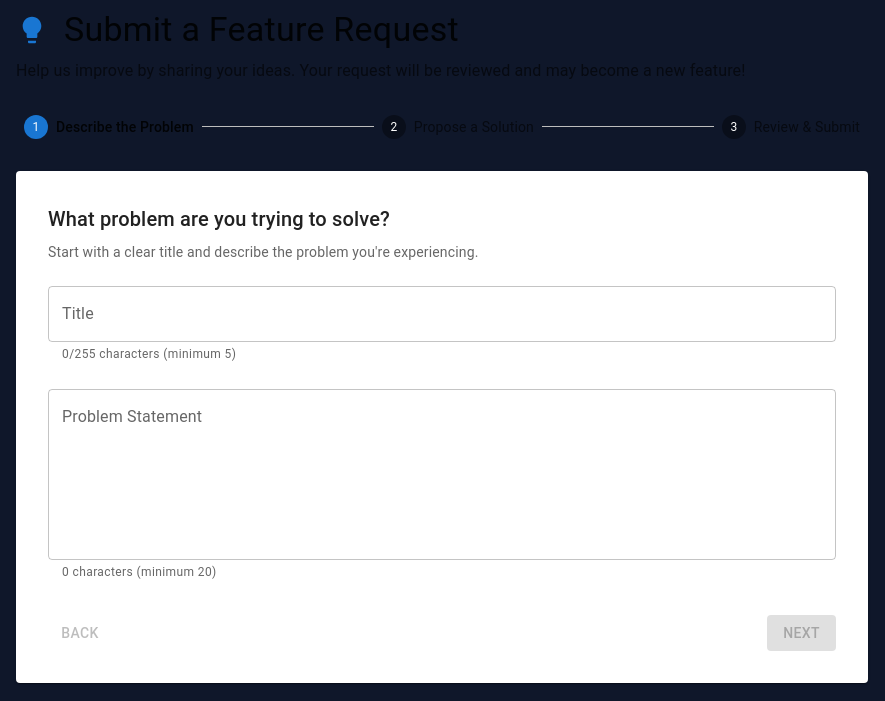
SubmitFeatureRequest › Step 1 - Problem Description › enables Next button when form is valid
The image size is (885, 701).
In the field labelled "Title": (442, 314) [48,286,836,342], type "Add dark mode support"
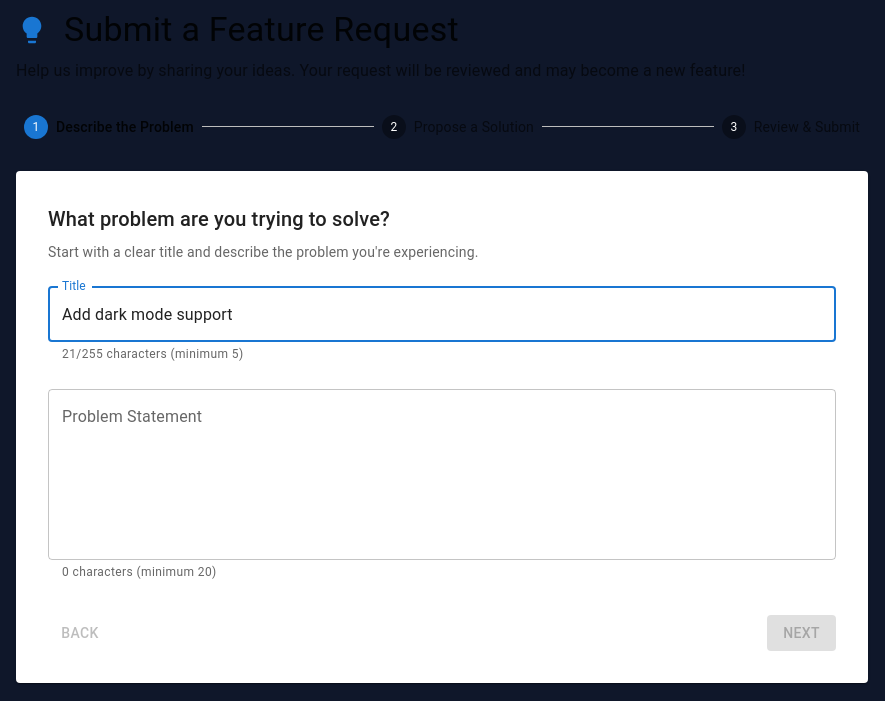
In the text box labelled "Problem Statement": (442, 474) [62,405,822,543], type "Users are experiencing eye strain when using the application in low-light environments."
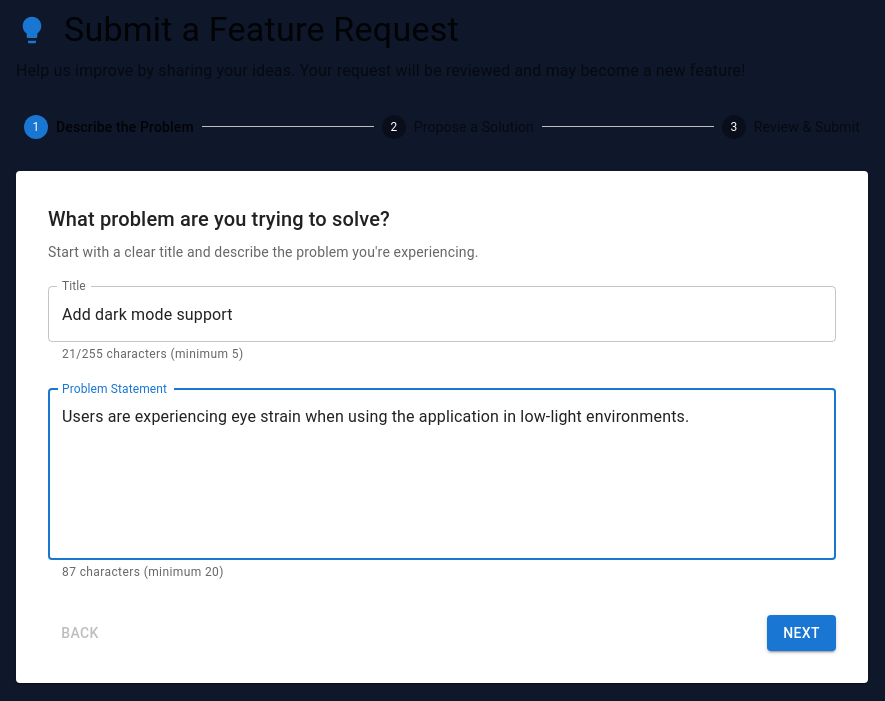
Result: the button "Next" is enabled at [767,615,836,651]
